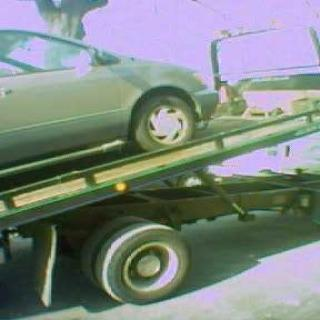Towing_truck: (0, 100, 319, 307)
